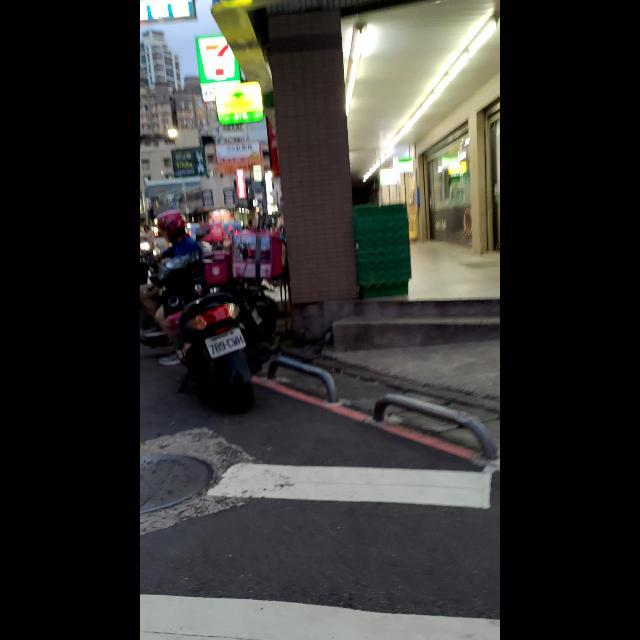sidewalk: (140, 448, 500, 640)
